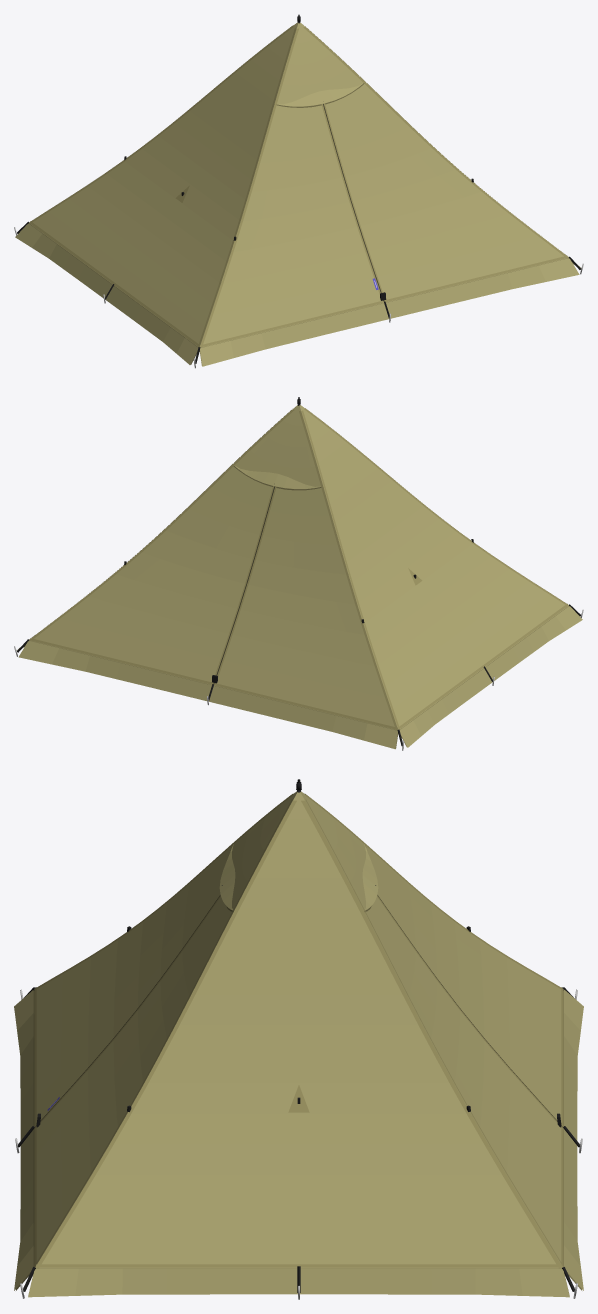
File: tentmark-circus-3024.glb
3 renders of one model, top to bottom at view 1: azimuth 30°, elevation 25°; view 2: azimuth 150°, elevation 25°; view 3: azimuth 270°, elevation 25°, orthographic. The views are drawn at different scales.
Bounding box in the file's own units: 3.19 × 1.87 × 2.59.
